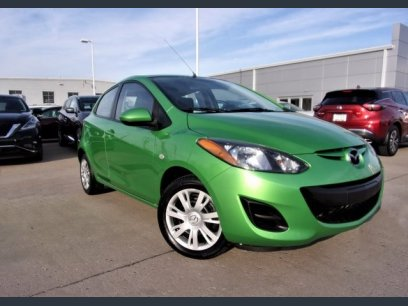Mazda3 Hatchback: (73, 70, 387, 264)
